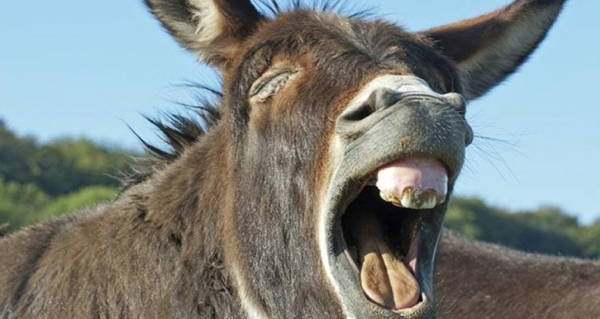donkey: (11, 1, 578, 319)
